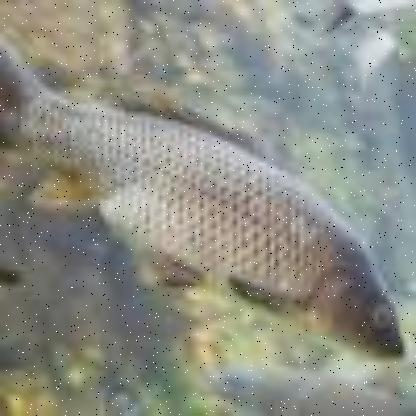ikan-mas: (0, 33, 410, 363)
